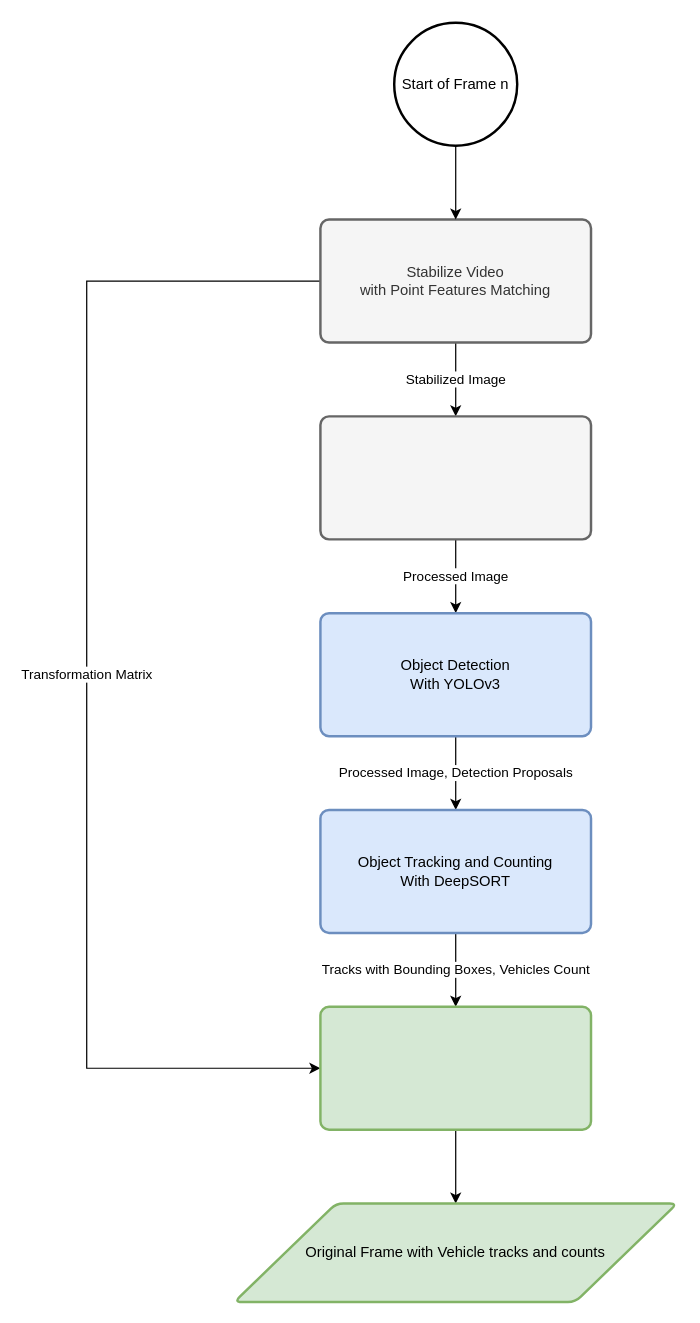
Some shapes in this 700 by 1323 pixel diagram are drawn without their labels. Here are the shapes that lost their labels. From the top down, the box of each, then its label:
(319, 415, 592, 540): Mask Segmentation With polygon mask
(319, 1005, 592, 1130): Transform to Original
